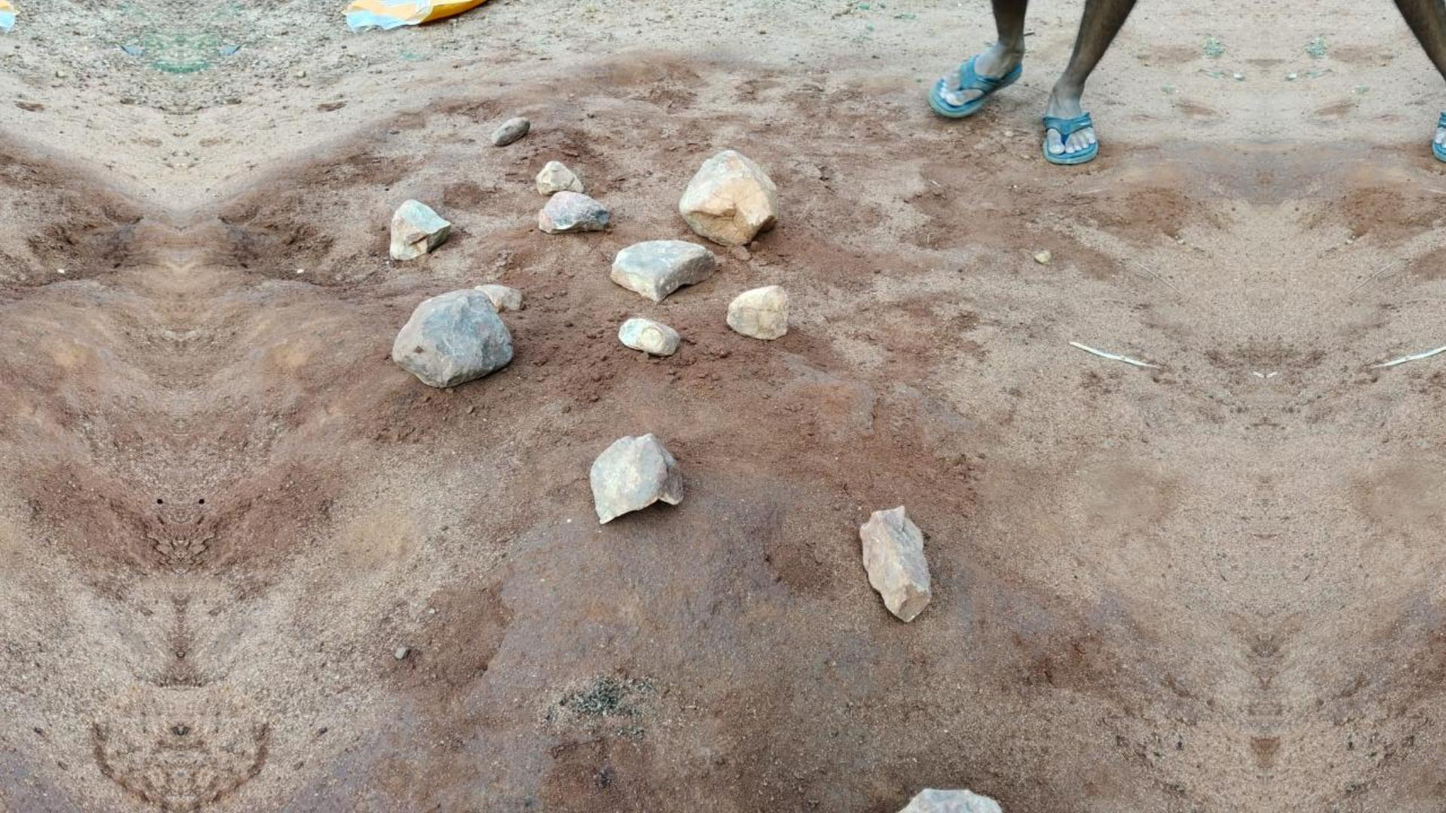rock: (392, 289, 512, 387), (680, 149, 776, 245), (590, 434, 682, 523), (861, 506, 930, 621), (611, 241, 715, 301), (390, 200, 450, 260), (728, 286, 789, 339), (538, 191, 609, 233), (899, 788, 1001, 812), (619, 317, 679, 355), (537, 161, 584, 194), (477, 283, 522, 312), (493, 117, 529, 145)
